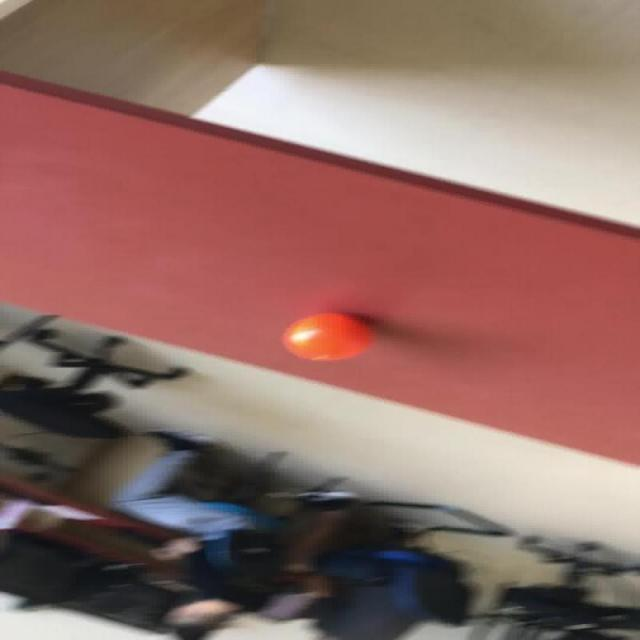Orange: (281, 311, 371, 362)
